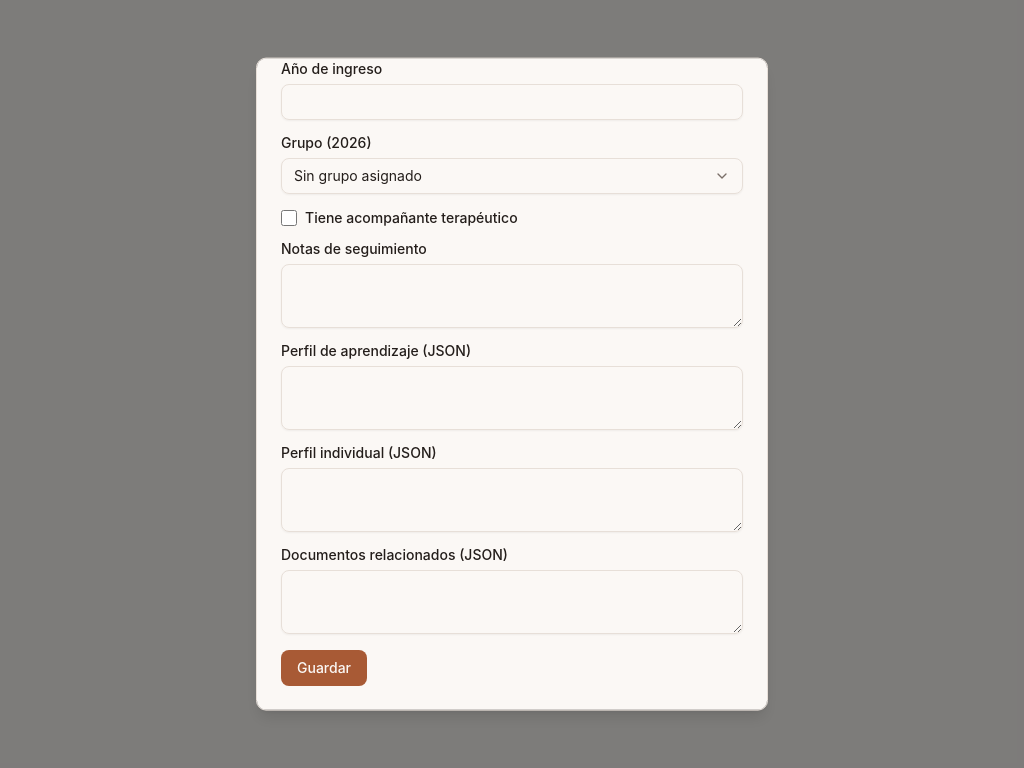
StudentFormPage › shows validation errors and does not submit when required fields are empty
The image size is (1024, 768).
(page scrolled)
Click the button "Guardar". click: (324, 668)
box: [281,650,367,686]
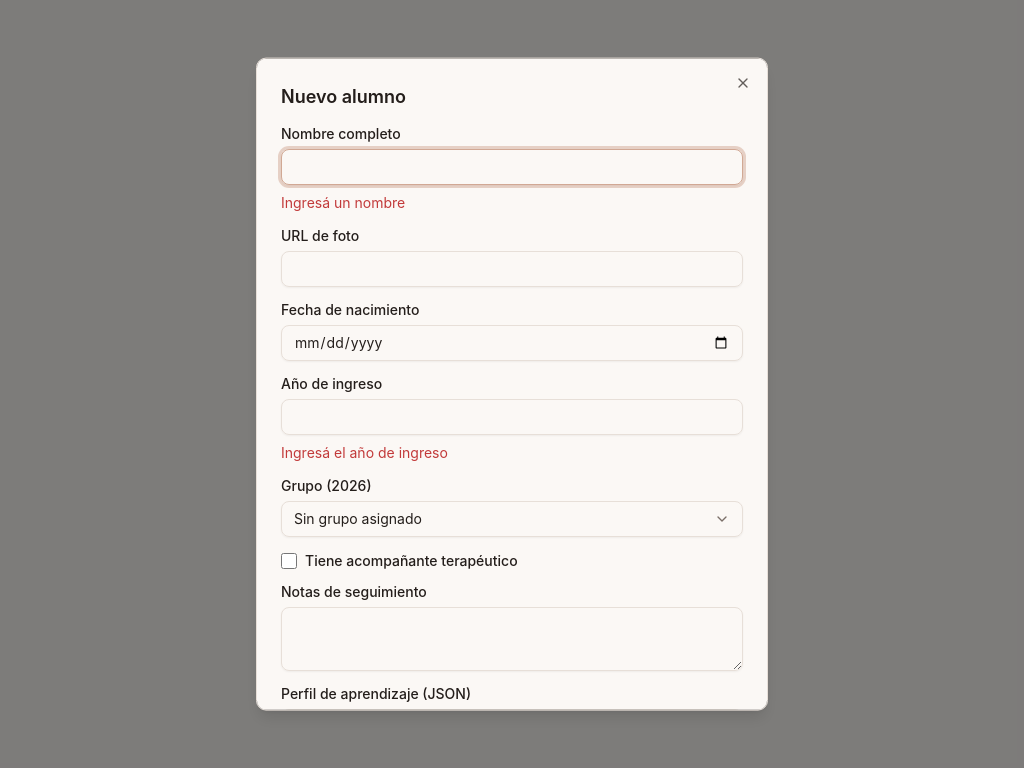
Check: the text "Ingresá un nombre" is shown, box [281,194,405,211]
